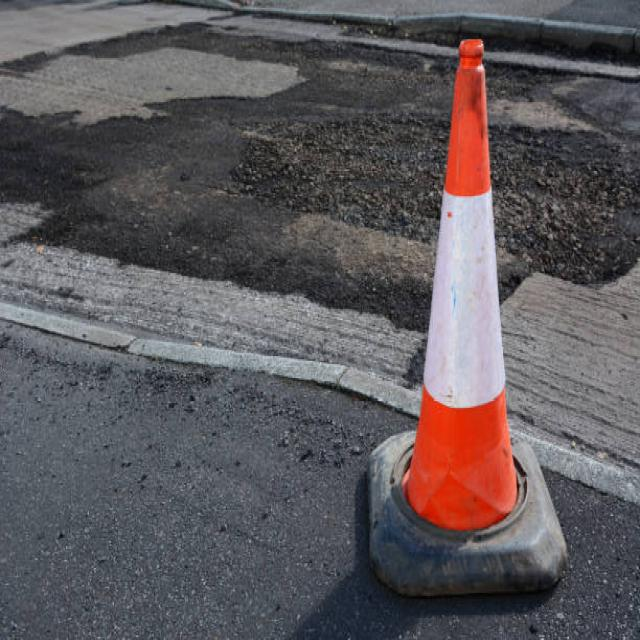Traffic Cone: (330, 16, 589, 615)
